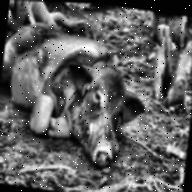boar: (0, 16, 153, 175)
